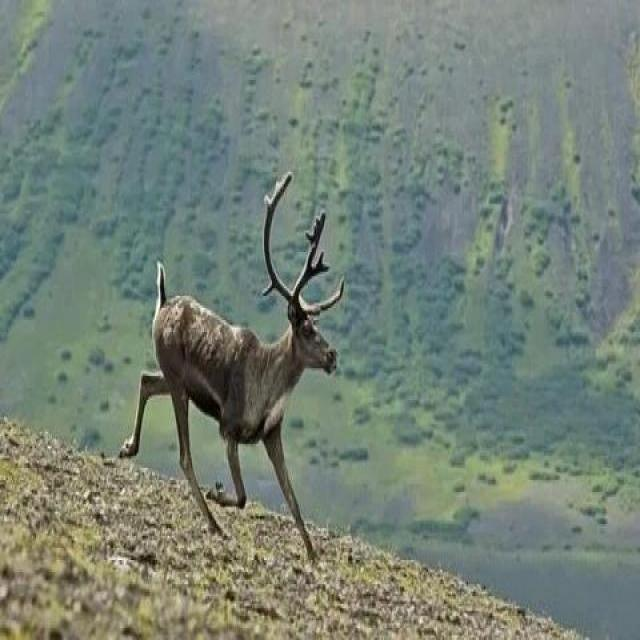deer: (138, 168, 368, 595)
